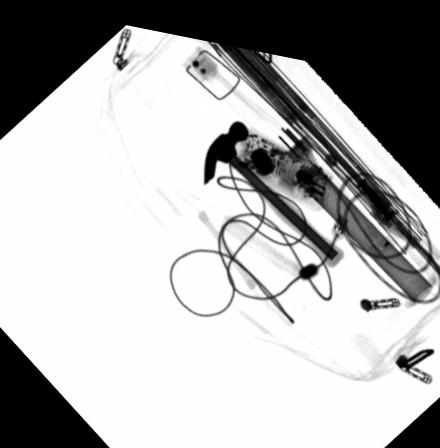Hammer: (203, 110, 347, 254)
